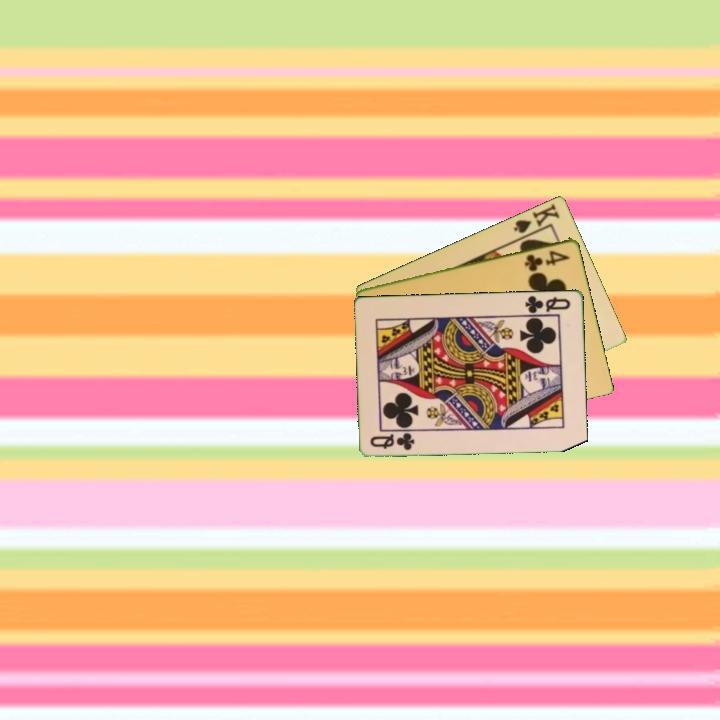4c: (521, 246, 573, 273)
Ks: (510, 200, 563, 236)
Qc: (522, 292, 573, 316), (367, 430, 418, 453)
